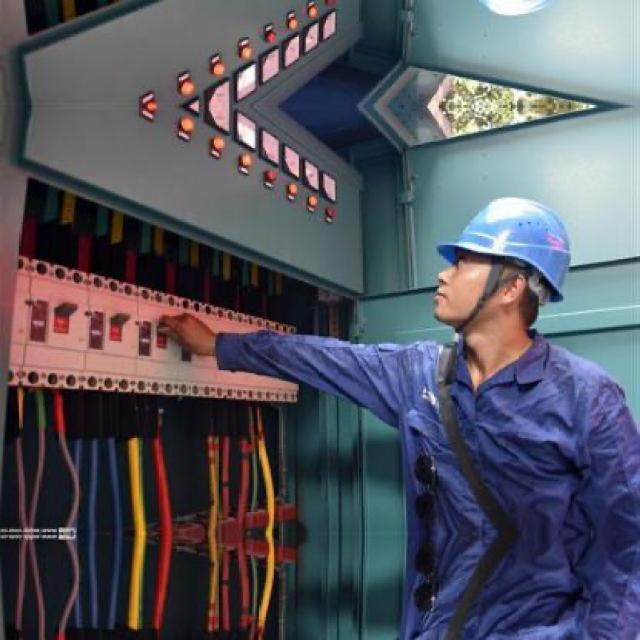con casco: (394, 201, 593, 315)
